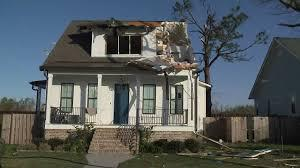major: (29, 13, 215, 155)
